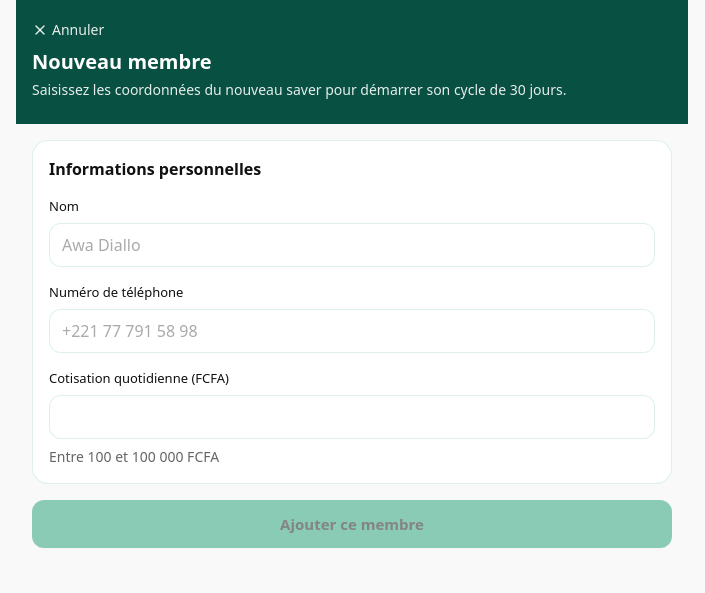
Scenario: MemberForm — create mode › shows inline error when phone is malformed (non-empty invalid)
Type "12345" into the field labelled "Numéro de téléphone" at (352, 331), box left=49, top=309, right=655, bottom=353
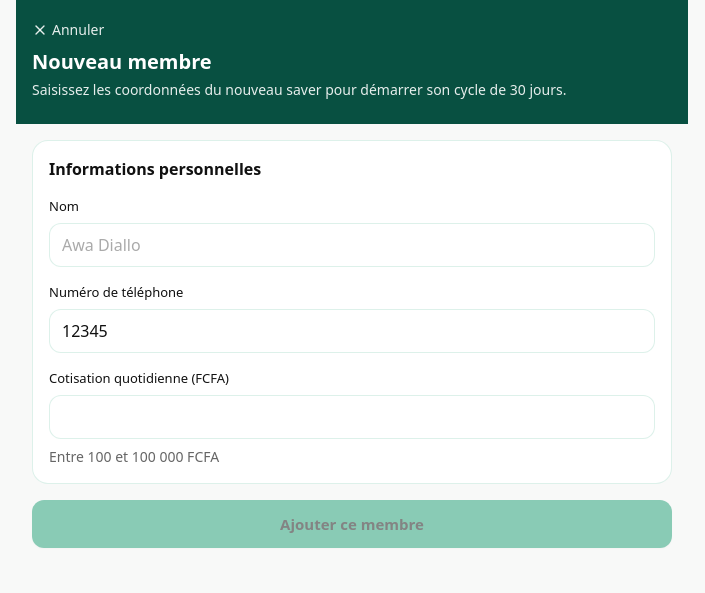
Leave the field labelled "Numéro de téléphone", box left=49, top=309, right=655, bottom=353
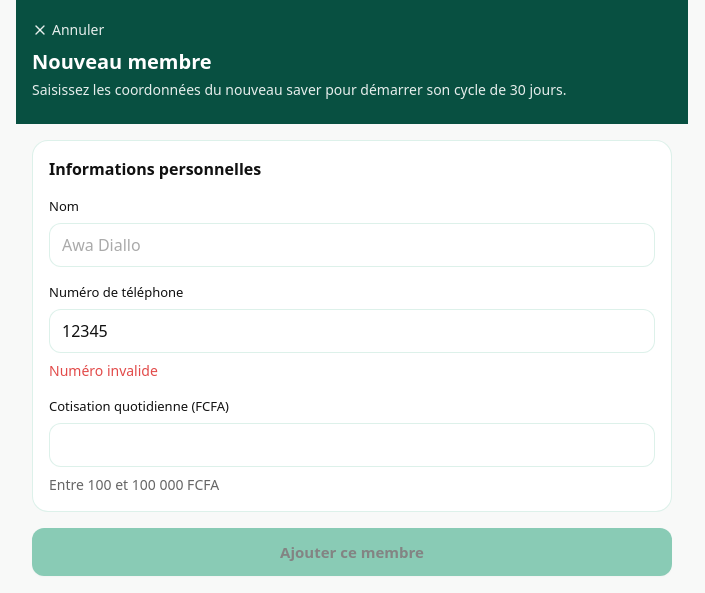
Expected: the text "Numéro invalide" is shown, left=49, top=361, right=158, bottom=380
